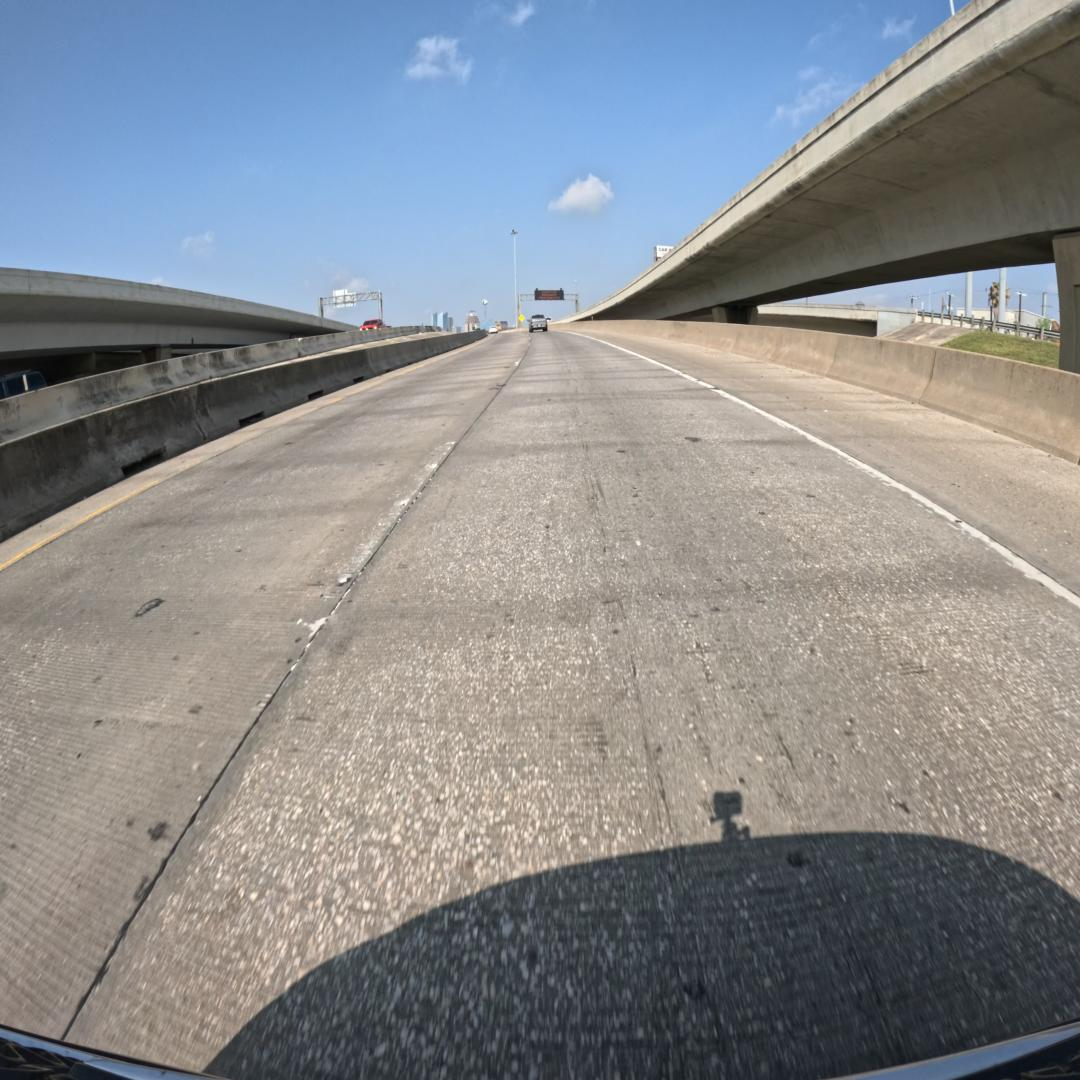lane0: (69, 334, 1080, 1077)
lane1: (0, 334, 528, 1037)
